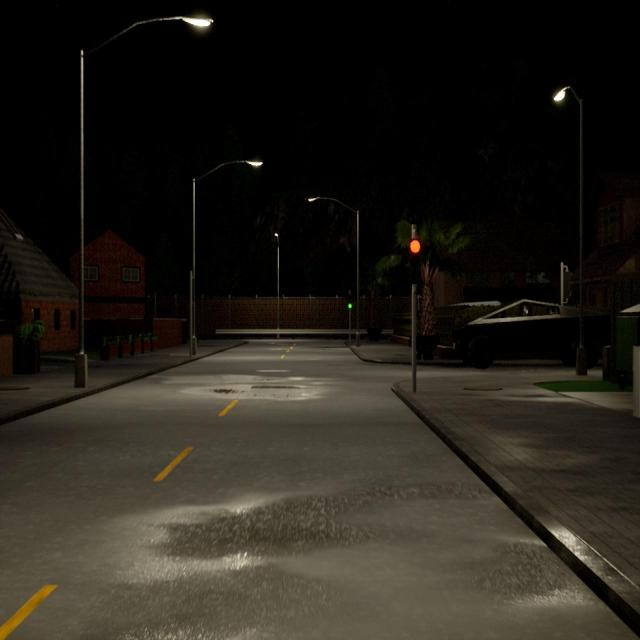Vehicle: (461, 299, 618, 373)
traffic_light: (408, 238, 424, 284), (562, 270, 574, 300), (346, 293, 353, 311)
